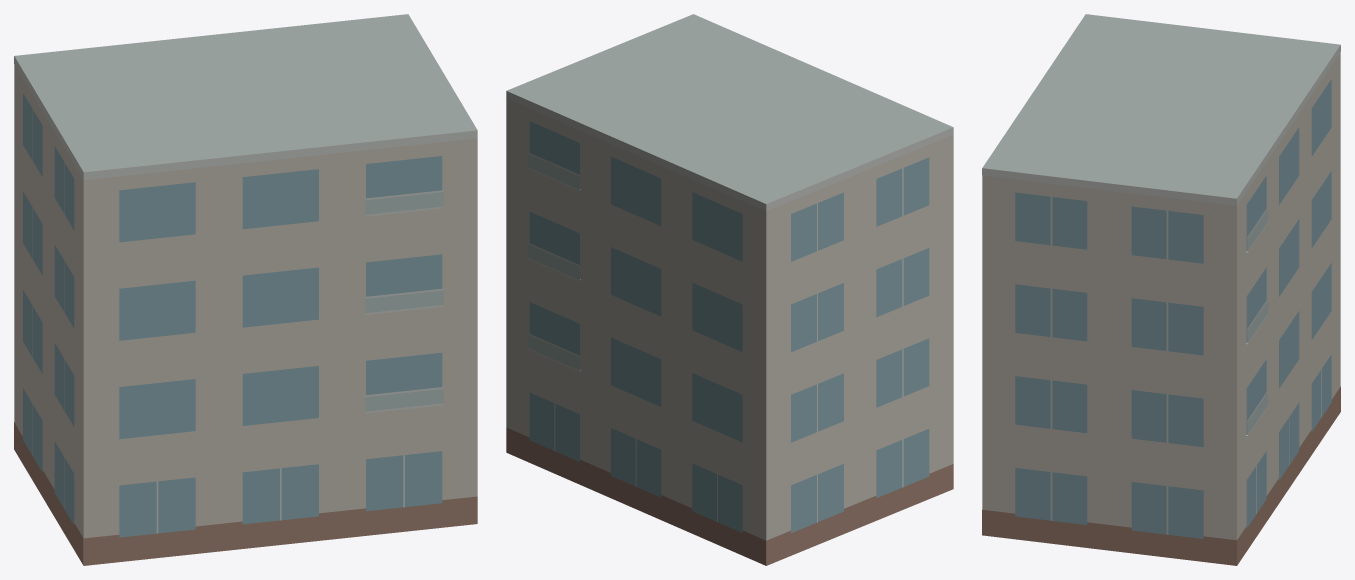
Rendered from residential-a8e24c73-428b-4772-a95b-a7ef30aa35df.glb.
3 renders of one model, left to right at view 1: azimuth 30°, elevation 25°; view 2: azimuth 150°, elevation 25°; view 3: azimuth 270°, elevation 25°, orthographic. The views are drawn at different scales.
Parts seen in each view (by area): view 1: residential-a8e24c73-428b-4772-a95b-a7ef30aa35df.tmp; view 2: residential-a8e24c73-428b-4772-a95b-a7ef30aa35df.tmp; view 3: residential-a8e24c73-428b-4772-a95b-a7ef30aa35df.tmp.
Part boxes in pixels (x1=…): residential-a8e24c73-428b-4772-a95b-a7ef30aa35df.tmp: x1=14, y1=14, x2=477, y2=565; residential-a8e24c73-428b-4772-a95b-a7ef30aa35df.tmp: x1=506, y1=14, x2=953, y2=565; residential-a8e24c73-428b-4772-a95b-a7ef30aa35df.tmp: x1=982, y1=14, x2=1340, y2=565.
Bounding box in the file's own units: 13.17 × 12.2 × 10.81.
